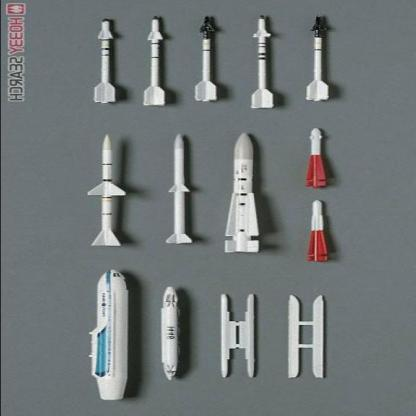MIL_TBM: (87, 132, 124, 246), (164, 134, 192, 244), (304, 12, 332, 101), (91, 18, 117, 104), (251, 15, 274, 108), (194, 15, 218, 101), (142, 16, 165, 105)
